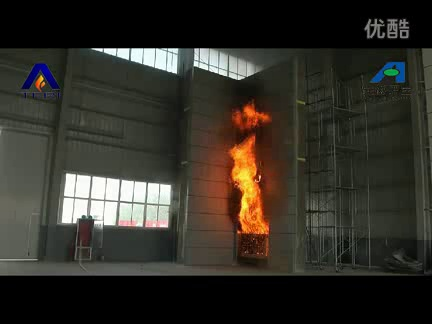fire: (231, 99, 270, 234)
